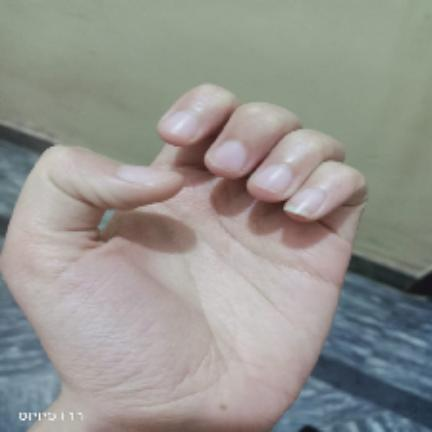Nail: (283, 189, 325, 216), (252, 165, 292, 193), (209, 141, 246, 171), (117, 165, 167, 185), (162, 111, 197, 139)
